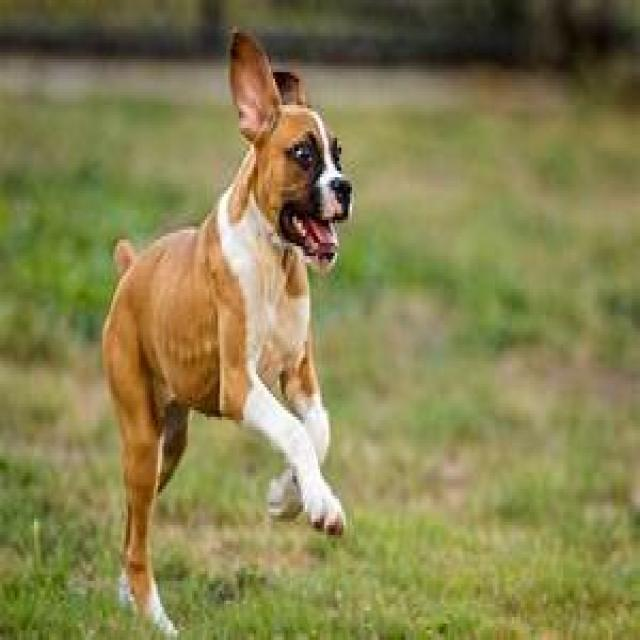dog: (102, 33, 351, 634)
